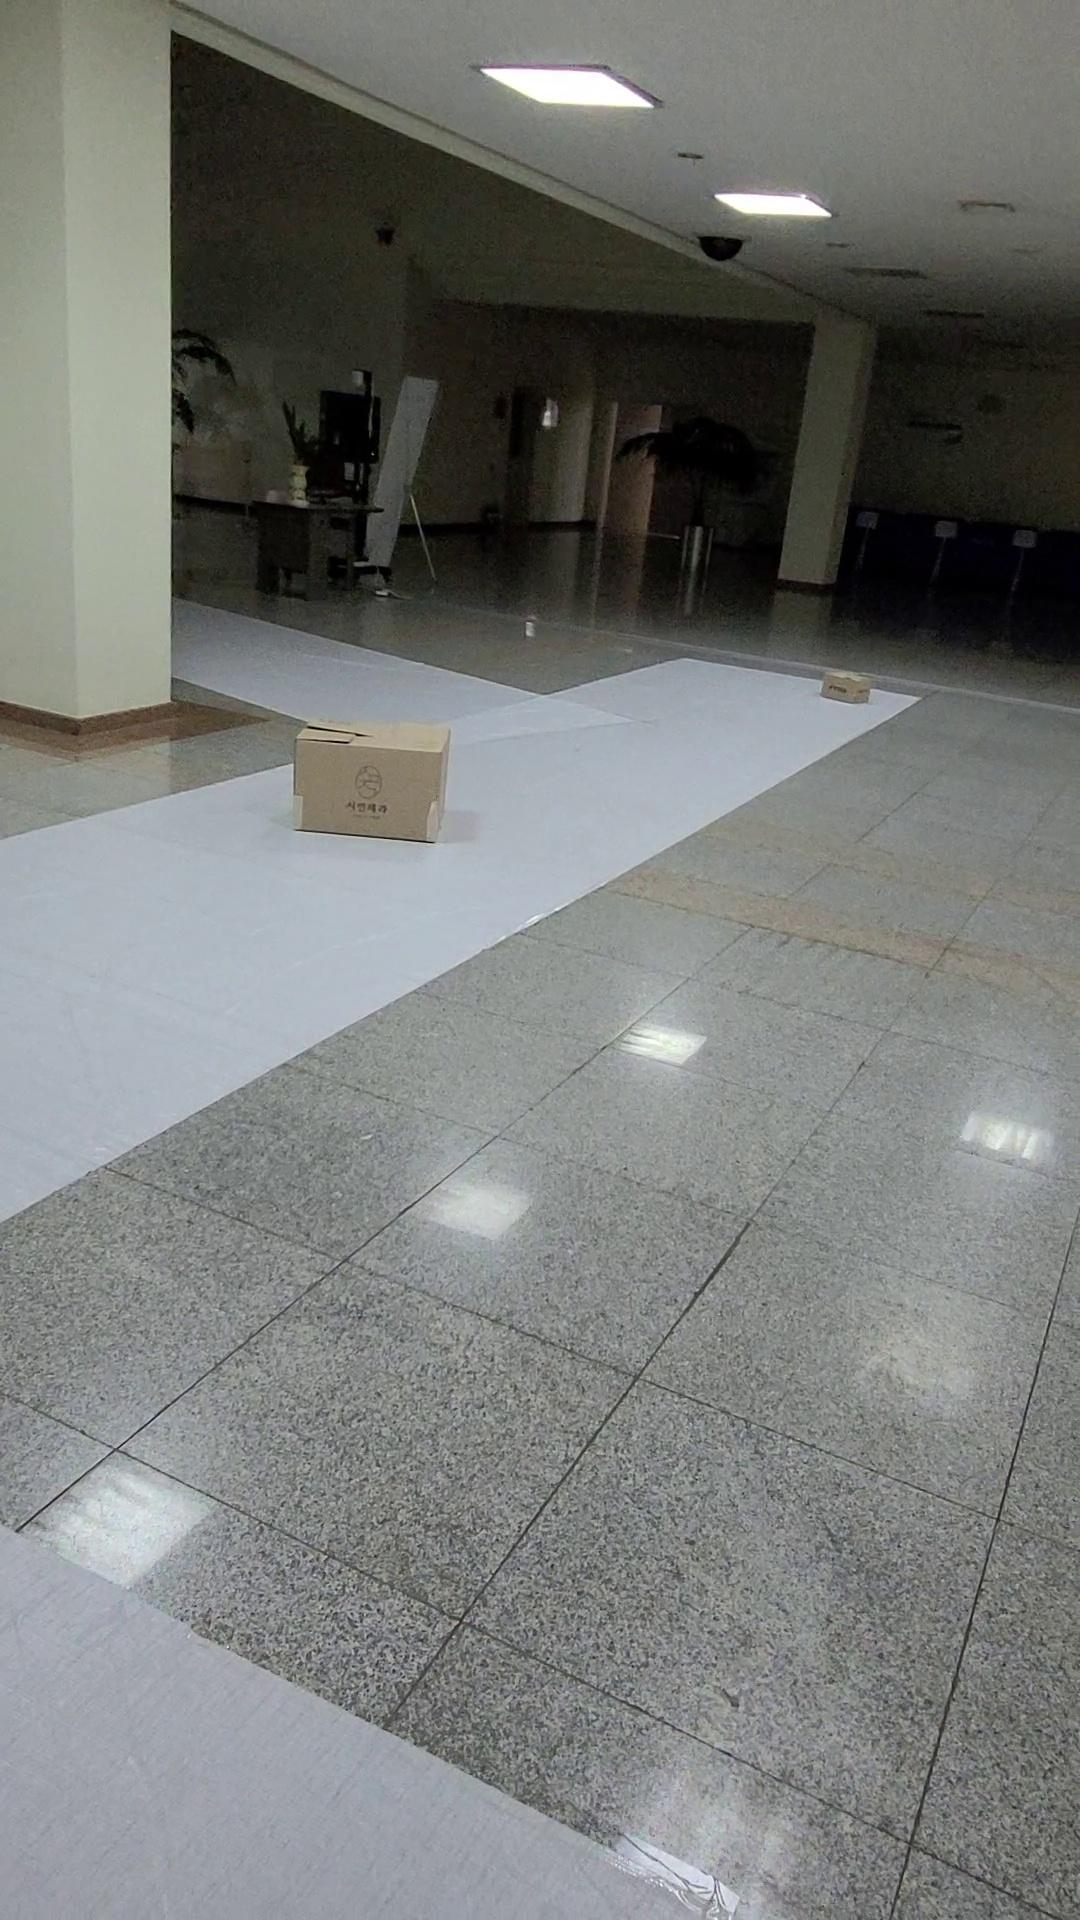Box: (262, 700, 472, 876), (803, 633, 887, 708)
